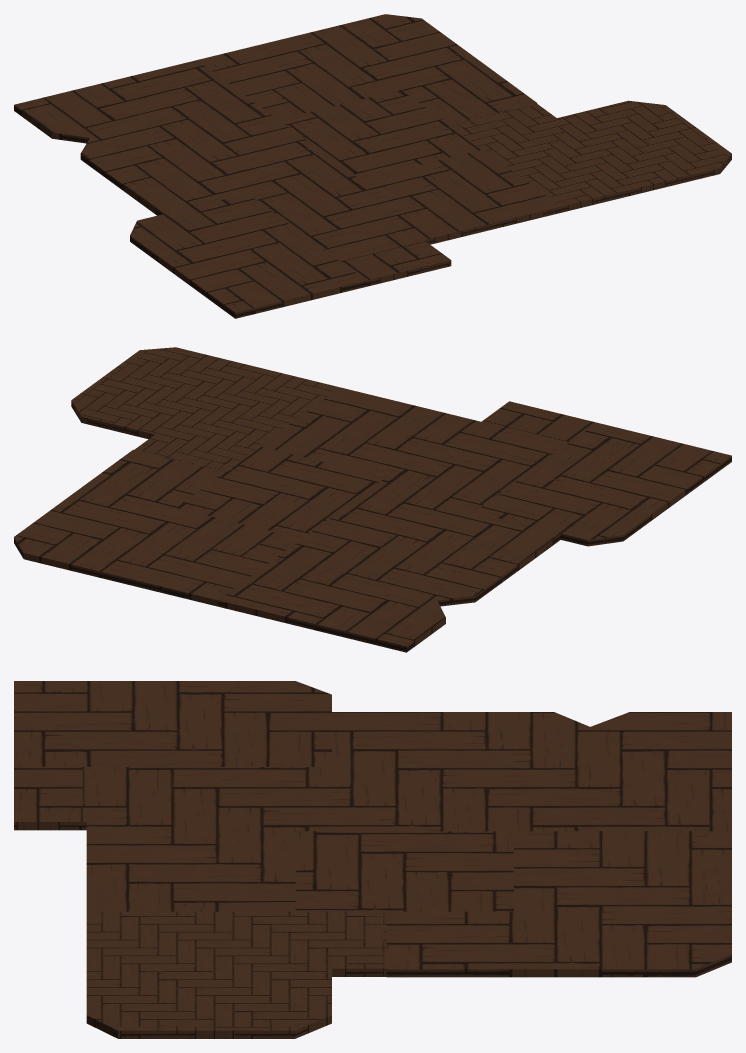
The model's file is lvl2Floor.fbx.
3 renders of one model, top to bottom at view 1: azimuth 30°, elevation 25°; view 2: azimuth 150°, elevation 25°; view 3: azimuth 270°, elevation 25°, orthographic. The views are drawn at different scales.
Parts seen in each view (by area): view 1: Floor1, Floor5, Floor4, Floor2, Floor3; view 2: Floor1, Floor5, Floor4, Floor2, Floor3; view 3: Floor1, Floor5, Floor4, Floor2, Floor3.
Part boxes in pixels (left/top/right/bottom): Floor1: left=14, top=60, right=561, bottom=286; Floor5: left=197, top=14, right=537, bottom=124; Floor4: left=449, top=100, right=731, bottom=212; Floor2: left=130, top=193, right=366, bottom=318; Floor3: left=279, top=90, right=482, bottom=179; Floor1: left=218, top=387, right=595, bottom=652; Floor5: left=14, top=449, right=301, bottom=606; Floor4: left=71, top=347, right=339, bottom=471; Floor2: left=474, top=422, right=731, bottom=546; Floor3: left=176, top=446, right=385, bottom=538; Floor1: left=14, top=712, right=731, bottom=911; Floor5: left=386, top=831, right=731, bottom=977; Floor4: left=86, top=911, right=386, bottom=1038; Floor2: left=14, top=681, right=331, bottom=766; Floor3: left=295, top=831, right=513, bottom=911.
Bounding box in the file's own units: 19.75 × 22.75 × 0.25.
1 material, 1 textured.
